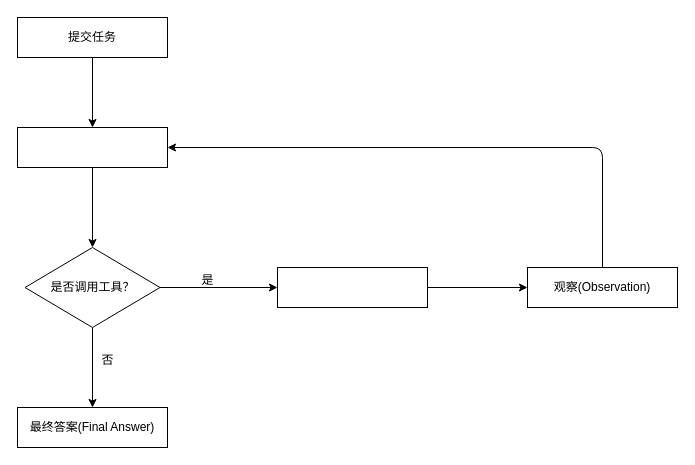
This 695x465 diagram has some shape labels left out. Each missing label, with the box of its shape:
思考(Thought): (16, 126, 168, 168)
行动(Action): (276, 266, 428, 308)
